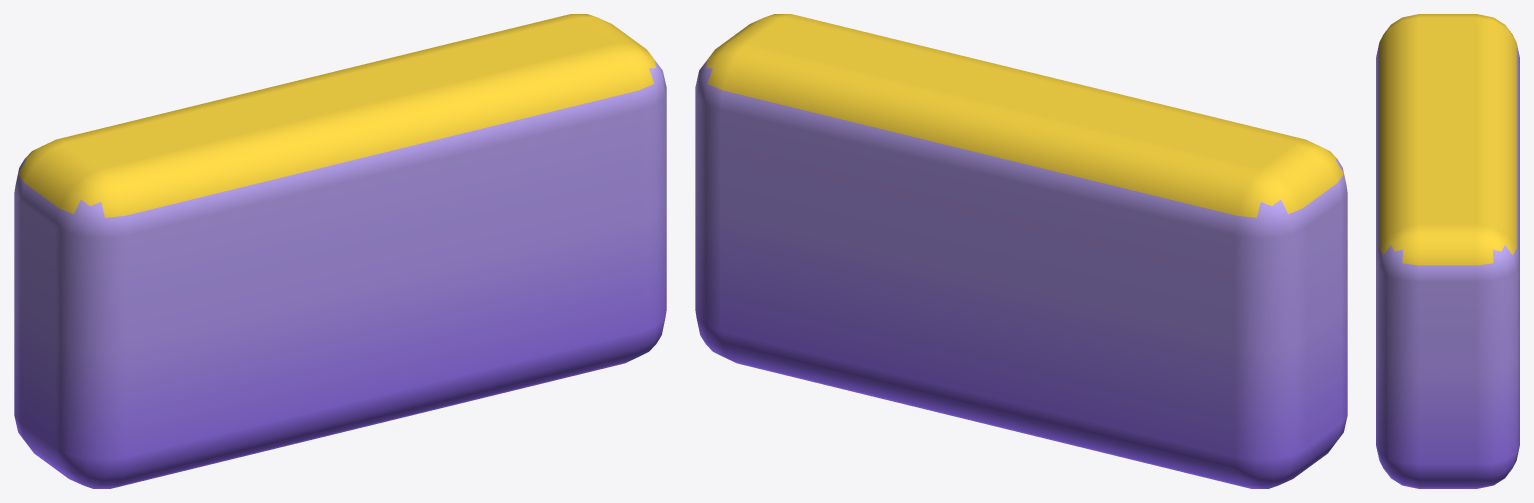
The model's file is wall_2x1.glb.
The picture shows the model from 3 angles, left to right: view 1: azimuth 30°, elevation 25°; view 2: azimuth 150°, elevation 25°; view 3: azimuth 270°, elevation 25°; orthographic projection. The views are drawn at different scales.
Parts seen in each view (by area): view 1: wall_2x1; view 2: wall_2x1; view 3: wall_2x1.
Part boxes in pixels (x1,y1,x2,y2): wall_2x1: [14, 14, 666, 488]; wall_2x1: [695, 14, 1347, 488]; wall_2x1: [1376, 14, 1519, 488].
Size of the model in its own units: 2 by 1 by 0.5.
Materials: 1 (1 with a texture image).
